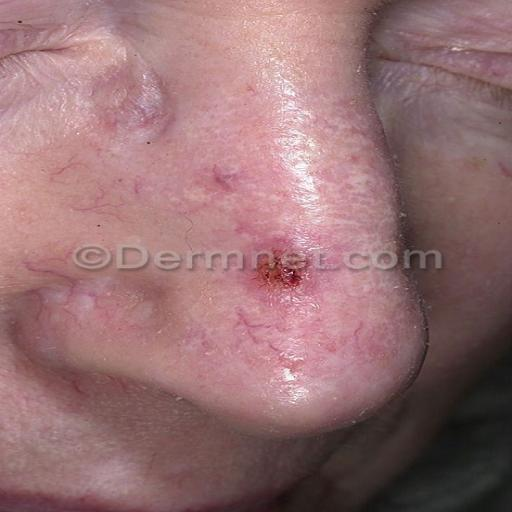Skin_Lesion: (242, 232, 318, 309), (208, 159, 236, 198)
